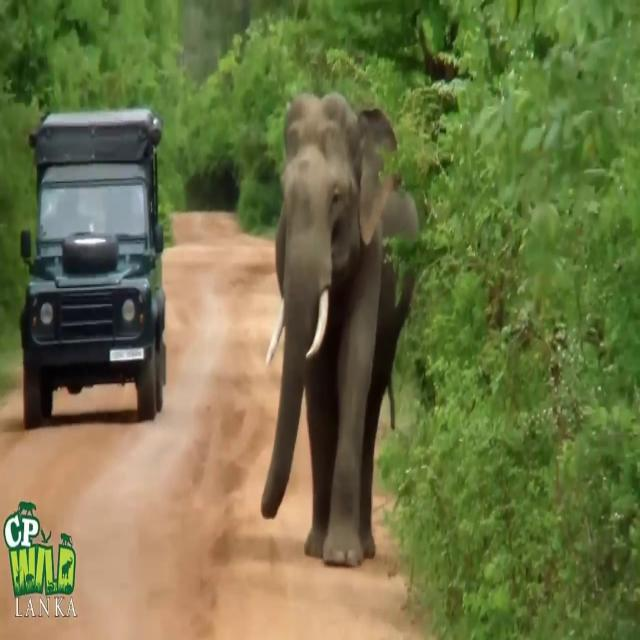Elephant: (260, 91, 420, 567)
